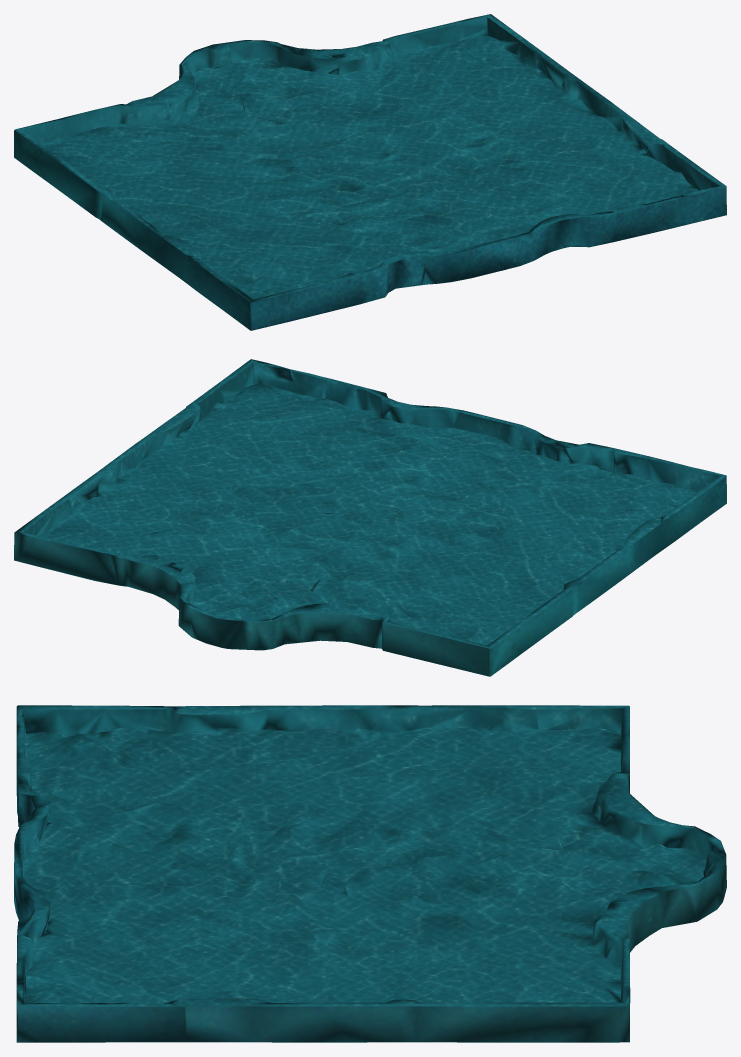
Rendered from water_strip.glb.
The picture shows the model from 3 angles, top to bottom: view 1: azimuth 30°, elevation 25°; view 2: azimuth 150°, elevation 25°; view 3: azimuth 270°, elevation 25°; orthographic projection. The views are drawn at different scales.
Parts seen in each view (by area): view 1: Mesh_0.001; view 2: Mesh_0.001; view 3: Mesh_0.001.
Boxes of the visible parts, <box> form: Mesh_0.001: <box>14,14,726,330</box>; Mesh_0.001: <box>14,359,726,676</box>; Mesh_0.001: <box>14,705,726,1042</box>.
Bounding box in the file's own units: 1.9 × 0.1135 × 1.9.
Materials: 1 (1 with a texture image).
